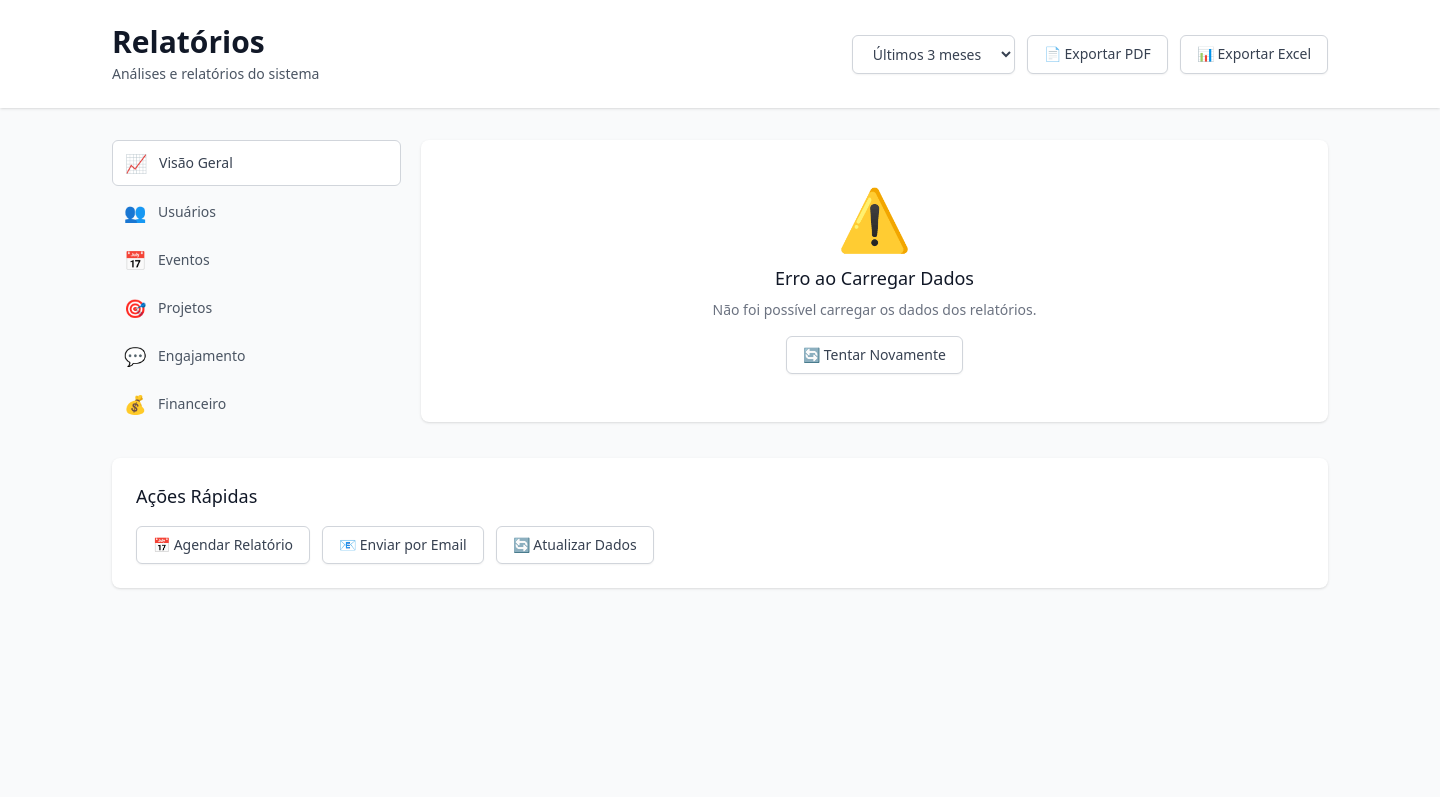
Test: AdminReportsPage › Error Handling › should recover from error after retry
Expected: the heading "Erro ao Carregar Dados" is shown, 775,266 -> 974,290
Click the button "🔄 Tentar Novamente".
click(874, 355)  # box 786,336 -> 963,374
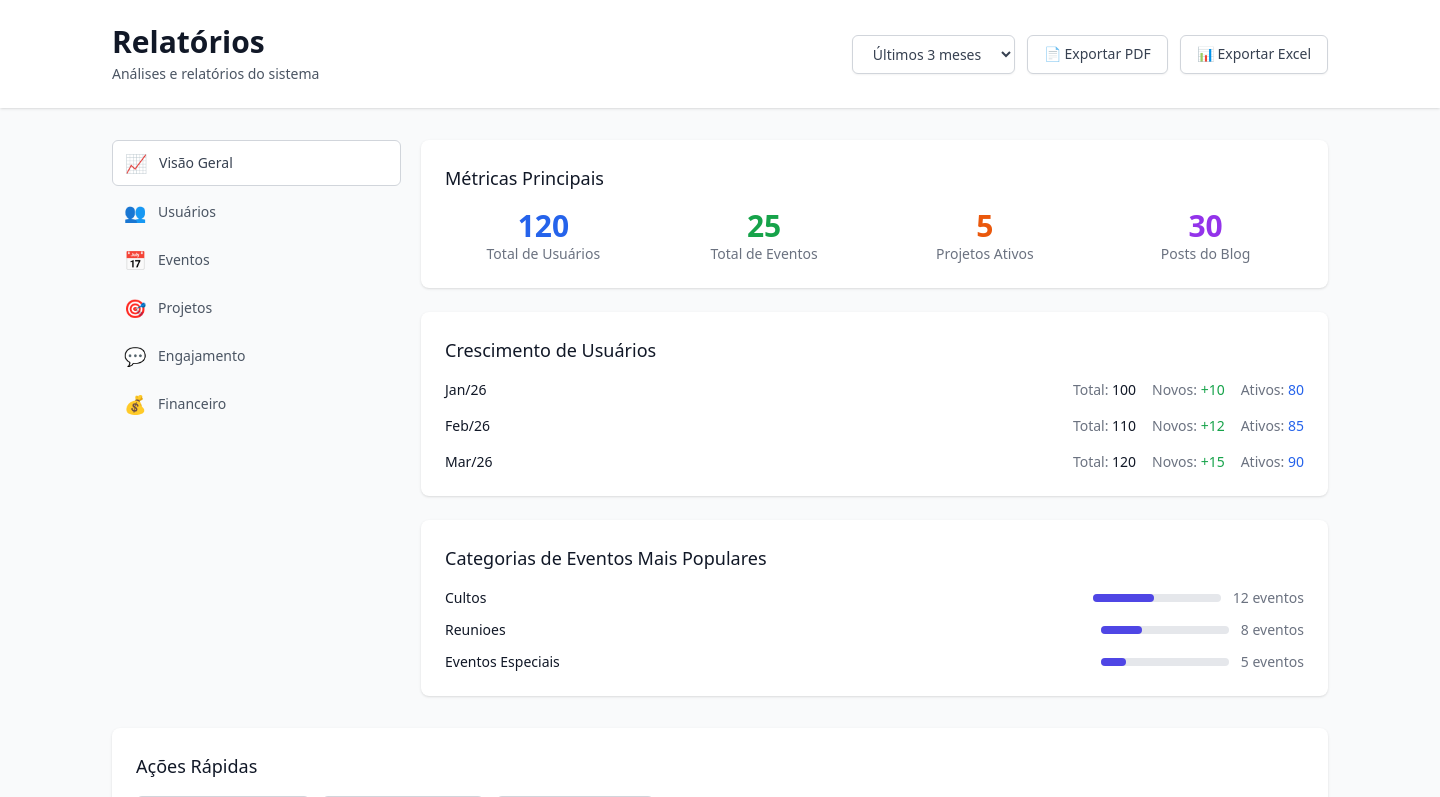
Now the heading "Métricas Principais" is shown, box 445,166 -> 604,190
